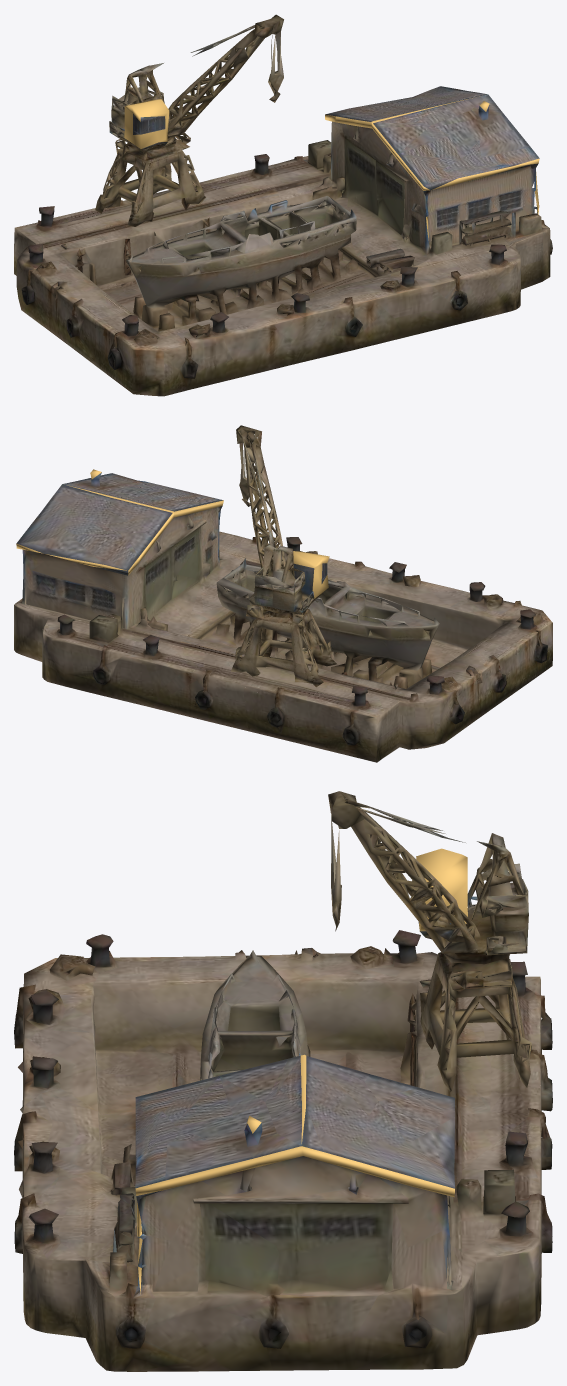
File: shipyard.glb
3 views of the same model, one above another, from view 1: azimuth 30°, elevation 25°; view 2: azimuth 150°, elevation 25°; view 3: azimuth 270°, elevation 25° (orthographic). The views are drawn at different scales.
Visible parts, largest first — view 1: Model; view 2: Model; view 3: Model.
Part boxes in pixels (x1=…): Model: x1=14, y1=14, x2=552, y2=396; Model: x1=14, y1=425, x2=552, y2=762; Model: x1=14, y1=791, x2=552, y2=1371.
Bounding box in the file's own units: 2 × 1.1 × 1.3.
2 materials, 1 textured.
